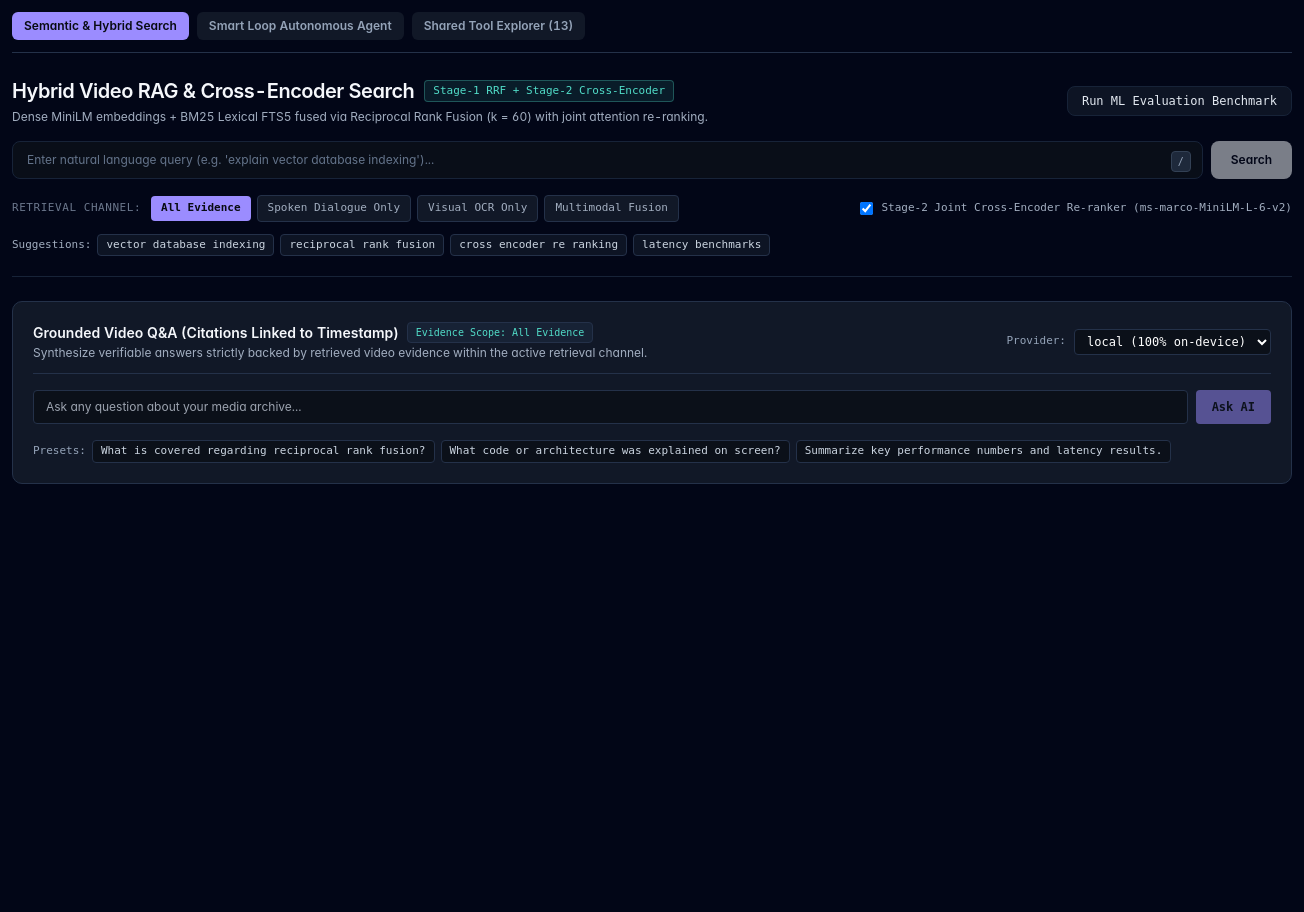
it: HybridSearchView › submits semantic search and renders ranked candidates with scores
The width and height of the screenshot is (1304, 912).
Replace the text in the field named "Search query" with "vector database indexing": x=607, y=160 top-left (12, 141), bottom-right (1203, 179)
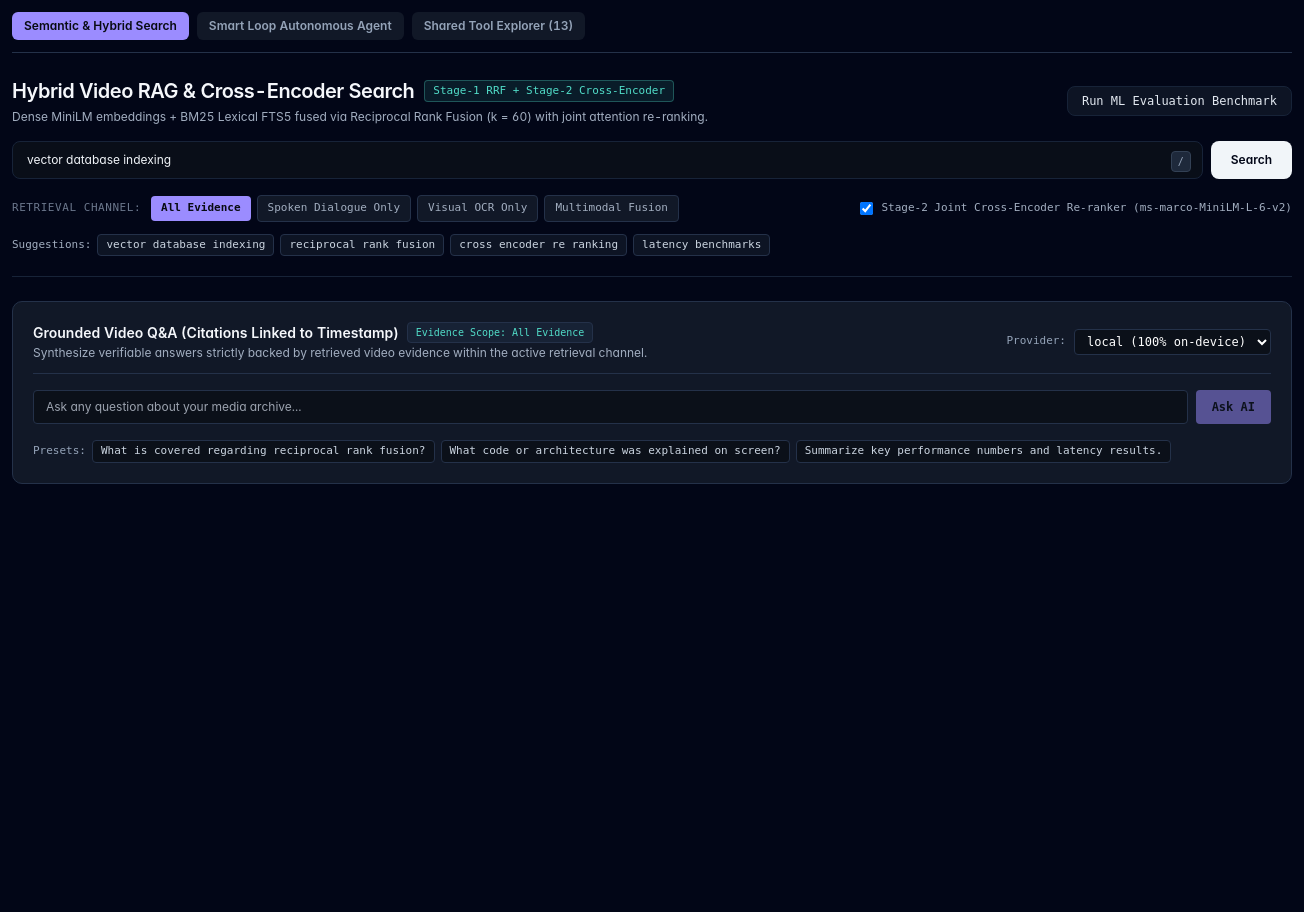
Click the button "Search": x=1251, y=160 top-left (1211, 141), bottom-right (1292, 179)
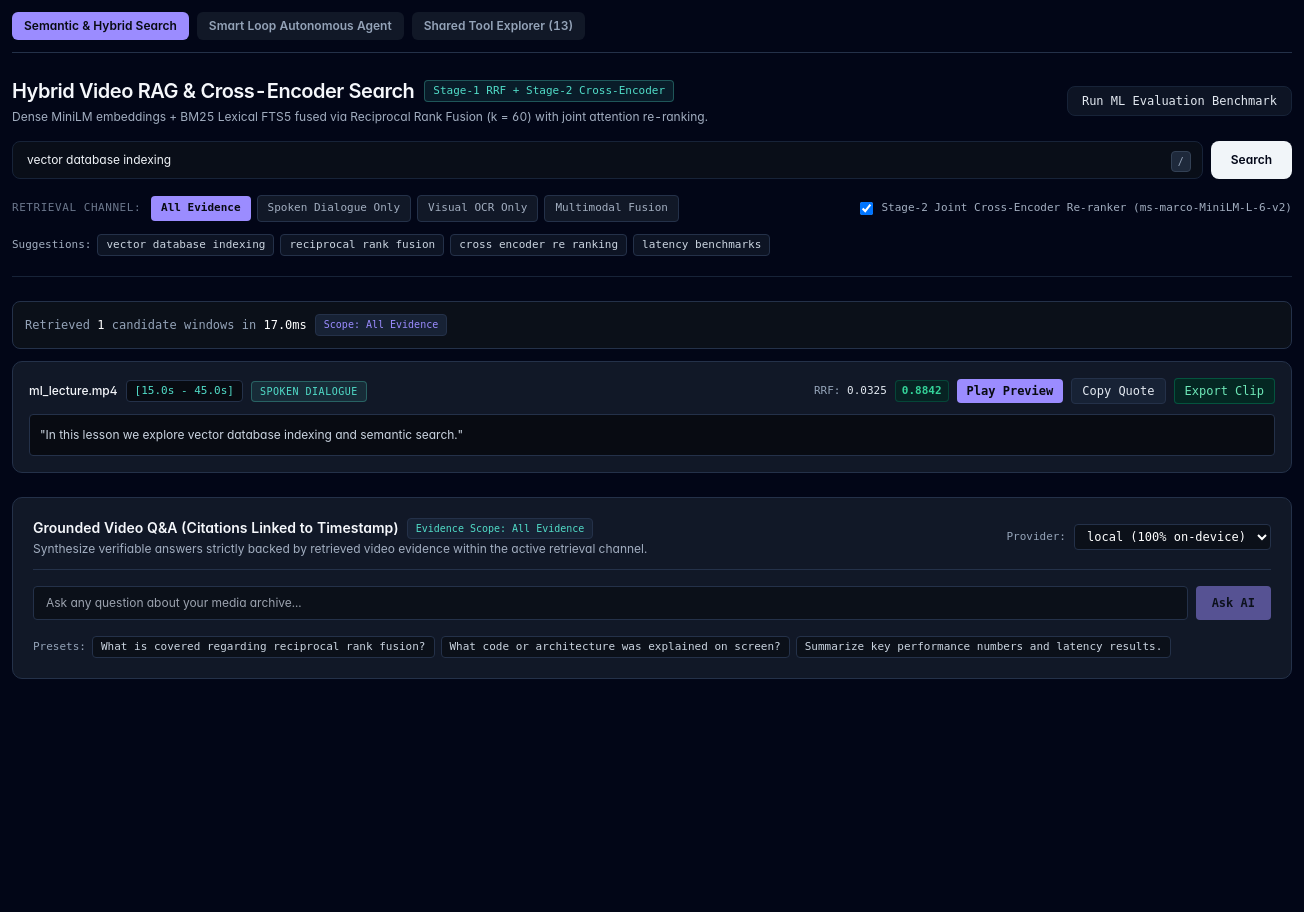
Now the text "ml_lecture.mp4" is shown, box top-left (29, 383), bottom-right (118, 399)
Now the text "[15.0s - 45.0s]" is shown, box top-left (126, 380), bottom-right (243, 402)
Now the text "In this lesson we explore vector database indexing" is shown, box top-left (46, 427), bottom-right (458, 442)
